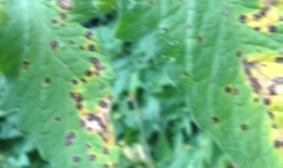Tomato Septoria leaf spot: (151, 0, 283, 168), (11, 0, 122, 168)
